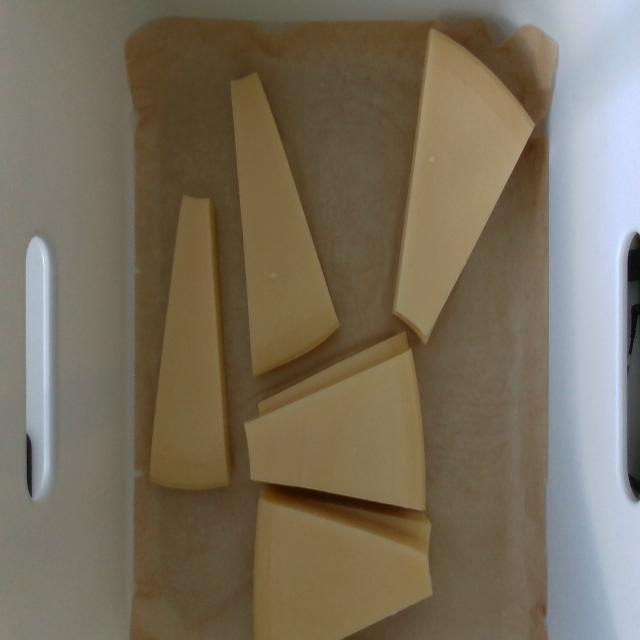Cheese: (397, 26, 536, 342), (231, 74, 338, 374), (245, 348, 426, 511), (150, 196, 229, 488), (254, 506, 430, 637)
